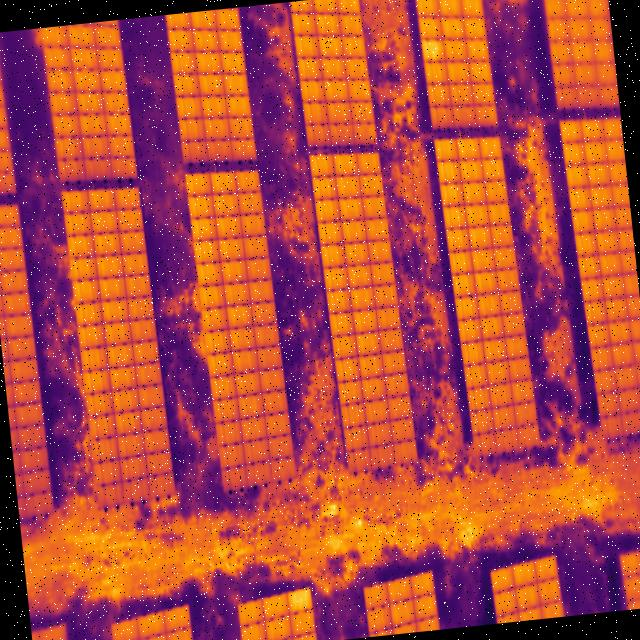Hotspot: (422, 37, 444, 59)
